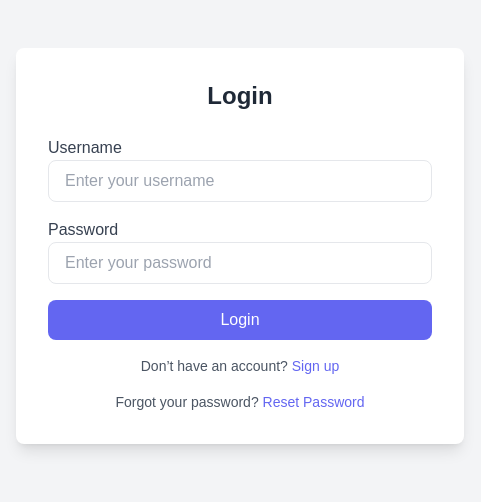
Test: LoginPage › displays error on failed login
Type "testuser" into the field with placeholder "Enter your username". click: (240, 181)
box: x1=48 y1=160 x2=432 y2=202
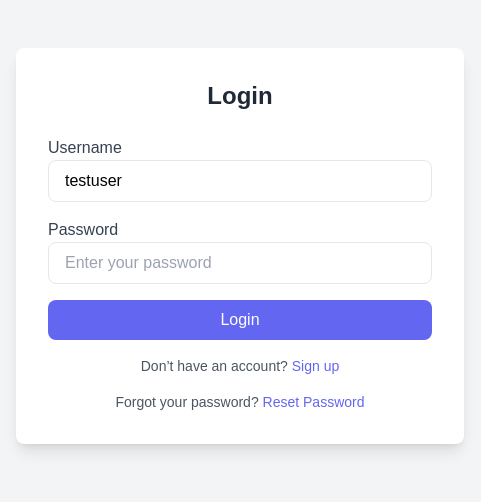
Type "wrongpassword" into the password field with placeholder "Enter your password". click: (240, 263)
box: x1=48 y1=242 x2=432 y2=284
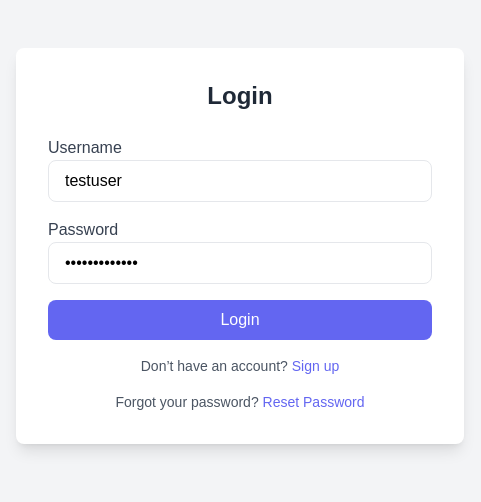
Click the button "Login". click: (240, 320)
box: x1=48 y1=300 x2=432 y2=340
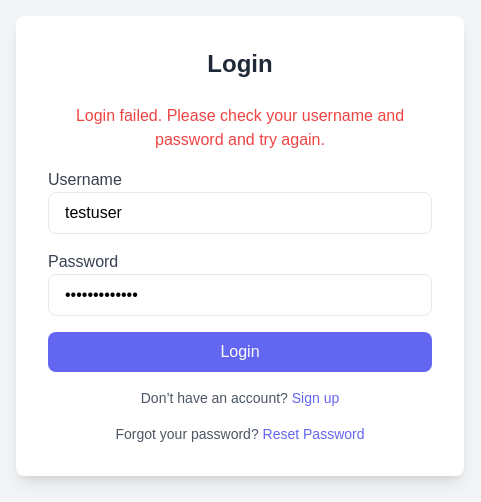
Now the text "Login failed. Please check your username and password" is shown, box x1=76 y1=107 x2=404 y2=148
